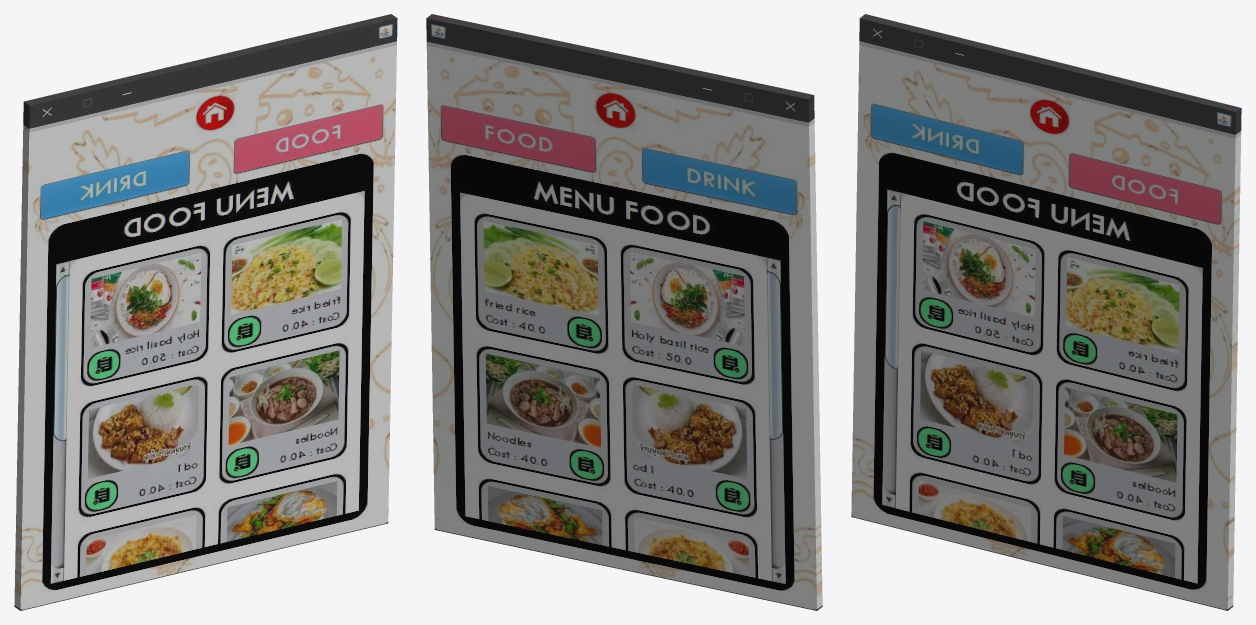
Rendered from image1.glb.
3 renders of one model, left to right at view 1: azimuth 30°, elevation 25°; view 2: azimuth 150°, elevation 25°; view 3: azimuth 330°, elevation 25°, orthographic.
Parts seen in each view (by area): view 1: 825258925_1397225412524593_5397279611372401949_n; view 2: 825258925_1397225412524593_5397279611372401949_n; view 3: 825258925_1397225412524593_5397279611372401949_n.
Boxes of the visible parts, x1=… form: 825258925_1397225412524593_5397279611372401949_n: x1=14, y1=14, x2=397, y2=610; 825258925_1397225412524593_5397279611372401949_n: x1=426, y1=14, x2=822, y2=610; 825258925_1397225412524593_5397279611372401949_n: x1=851, y1=14, x2=1241, y2=610.
Bounding box in the file's own units: 2.75 × 3.51 × 0.1416.
1 material, 1 textured.
